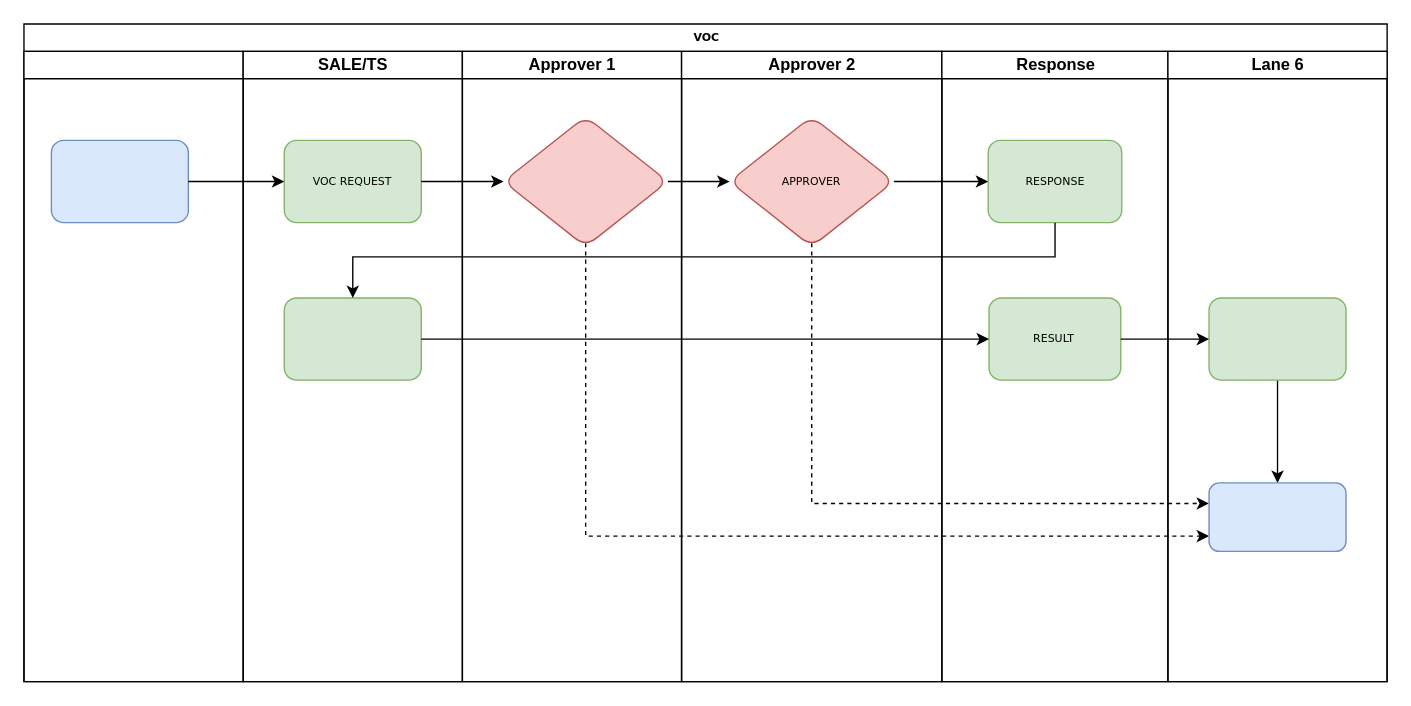
Image size: 1411x706. Some labels were removed from this diagram. Each missing label, with the centre of its shape:
"ACTION" belongs at (352,338).
"APPRPVER" belongs at (585,181).
"END" belongs at (1277,516).
"START" belongs at (119,181).
"VOC COMPLETE" belongs at (1277,338).
